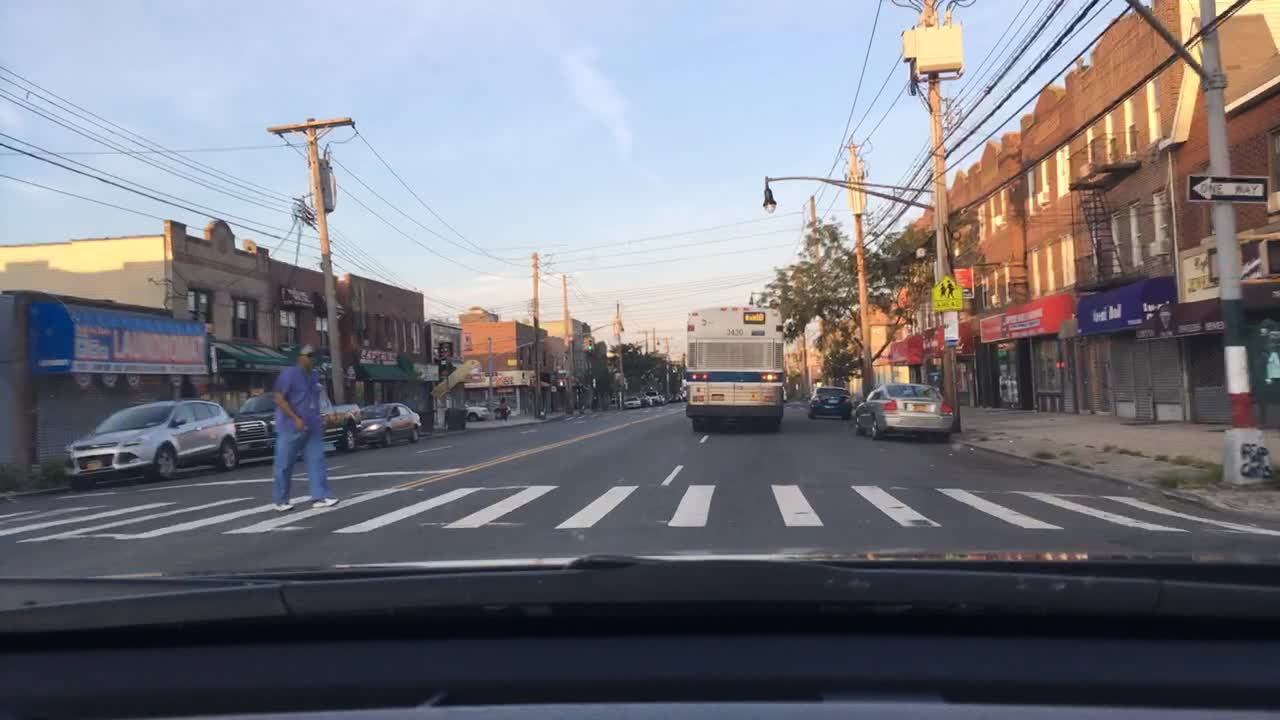bus: (687, 301, 781, 435)
car: (62, 398, 239, 487), (850, 383, 955, 440), (355, 401, 421, 449), (807, 386, 850, 420), (842, 394, 865, 420), (466, 404, 490, 424), (623, 395, 641, 410), (655, 393, 667, 405), (641, 396, 653, 406), (678, 386, 686, 401), (781, 389, 788, 403)
person: (265, 345, 336, 514), (499, 395, 510, 421)
traffic light: (1260, 234, 1278, 279), (1205, 247, 1217, 281), (580, 336, 587, 353), (587, 339, 593, 354)
traffic sign: (1186, 174, 1270, 204), (930, 277, 965, 311), (942, 311, 960, 349), (515, 371, 530, 386), (504, 358, 517, 365)
truck: (230, 391, 359, 461)
